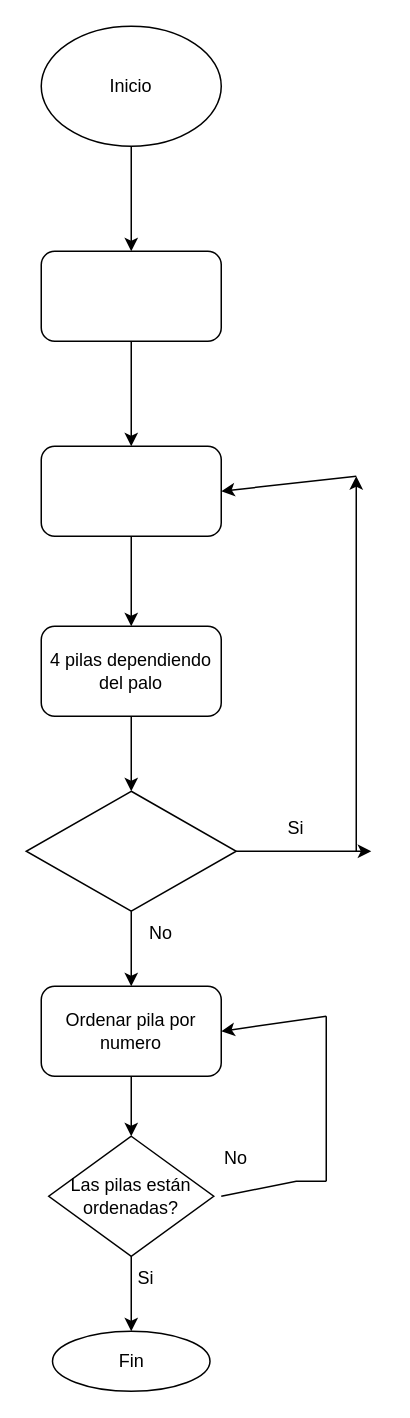
The diagram is 410 pixels wide and 1418 high, and some of its shapes have lost their labels. The shapes that lost their labels are listed below. From the top down, each one's centre as x and y in pixels, then its label:
At point 130,295: "Coger el mazo".
At point 130,490: "Seperar cartas: diamantes, trébol, corazones, espadas".
At point 130,850: "hay cartas sin clasificar?".
